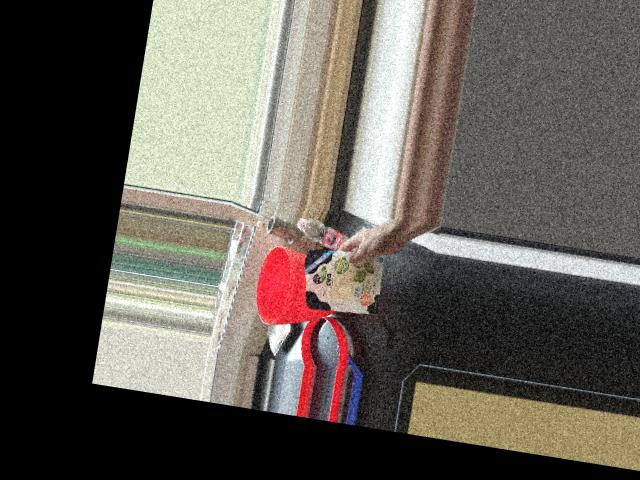cheese: (297, 230, 382, 317)
